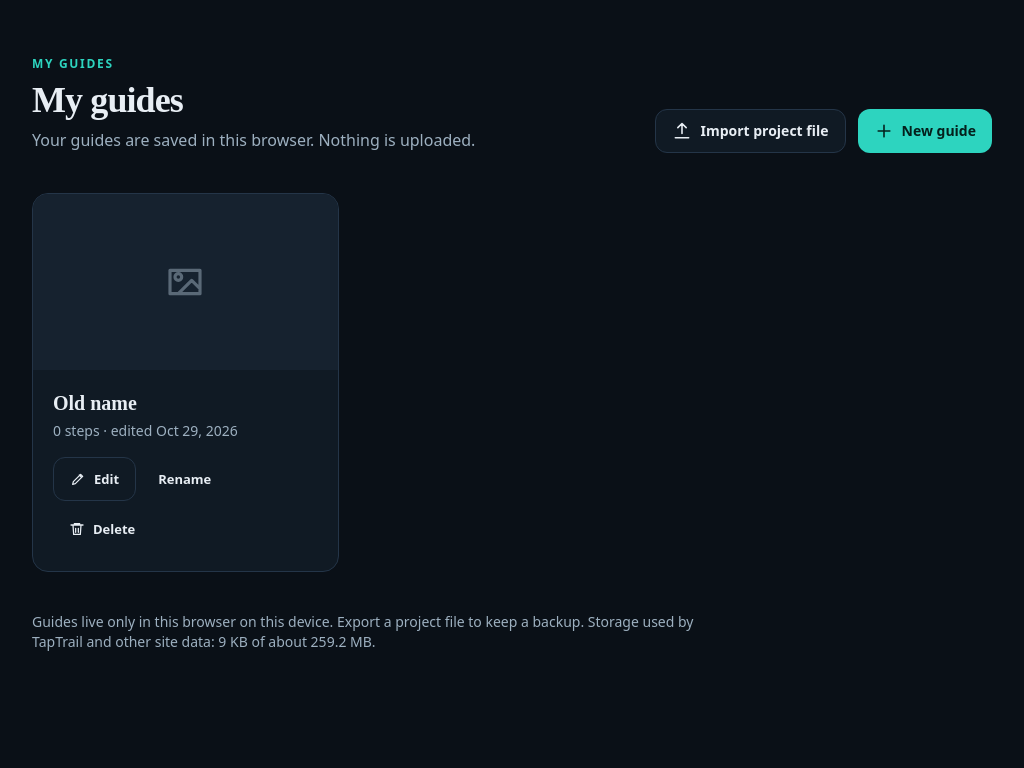
it: Studio: guide management › lists saved guides and renames one
The width and height of the screenshot is (1024, 768).
Expected: the link "Old name" is shown, 53,392 -> 137,414
Click the button "Rename": (185, 479) 142,457 -> 227,501
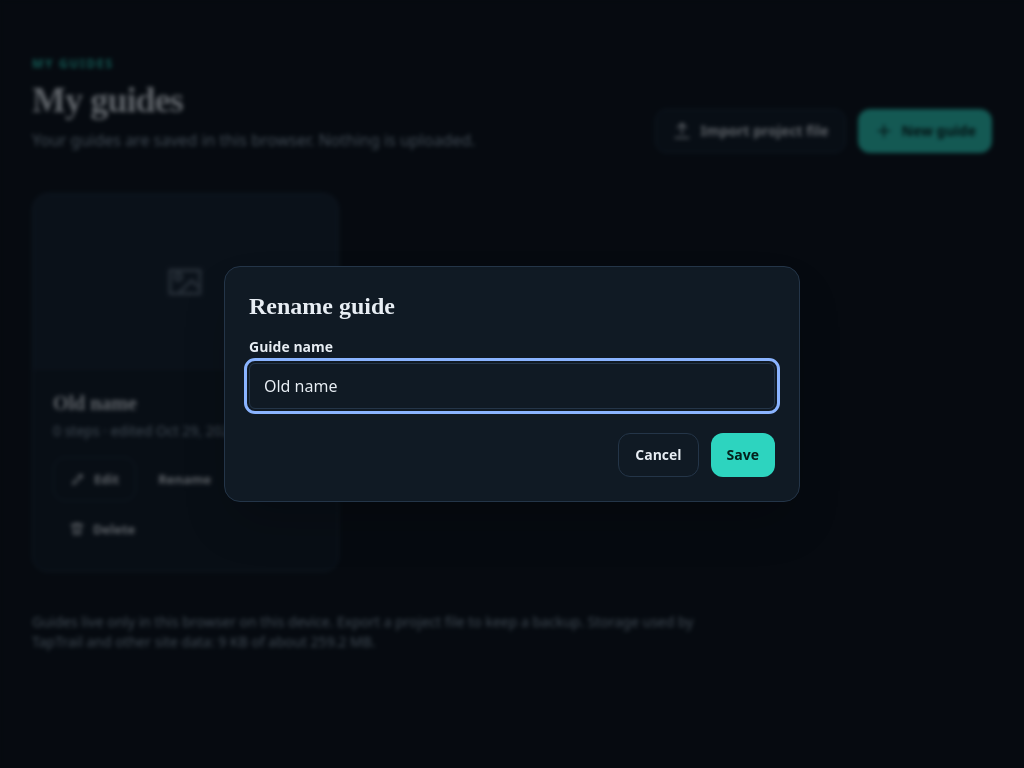
Replace the text in the field labelled "Guide name" with "New name": (512, 386) 249,363 -> 775,409
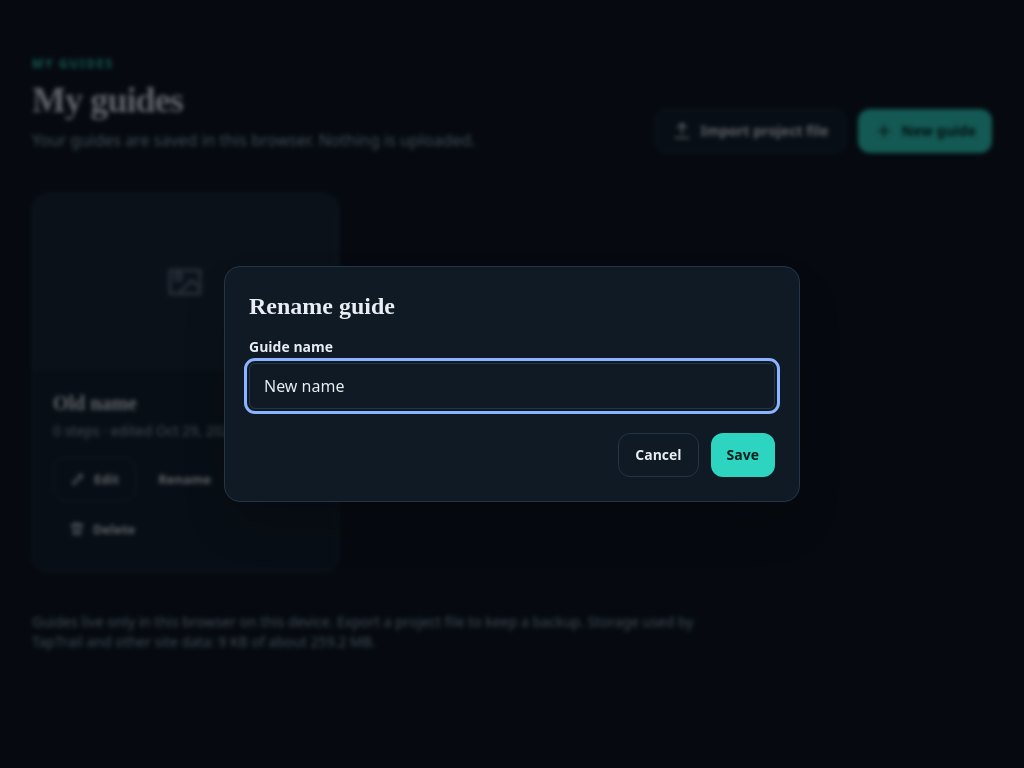
Click the button "Save": (743, 455) 711,433 -> 775,477
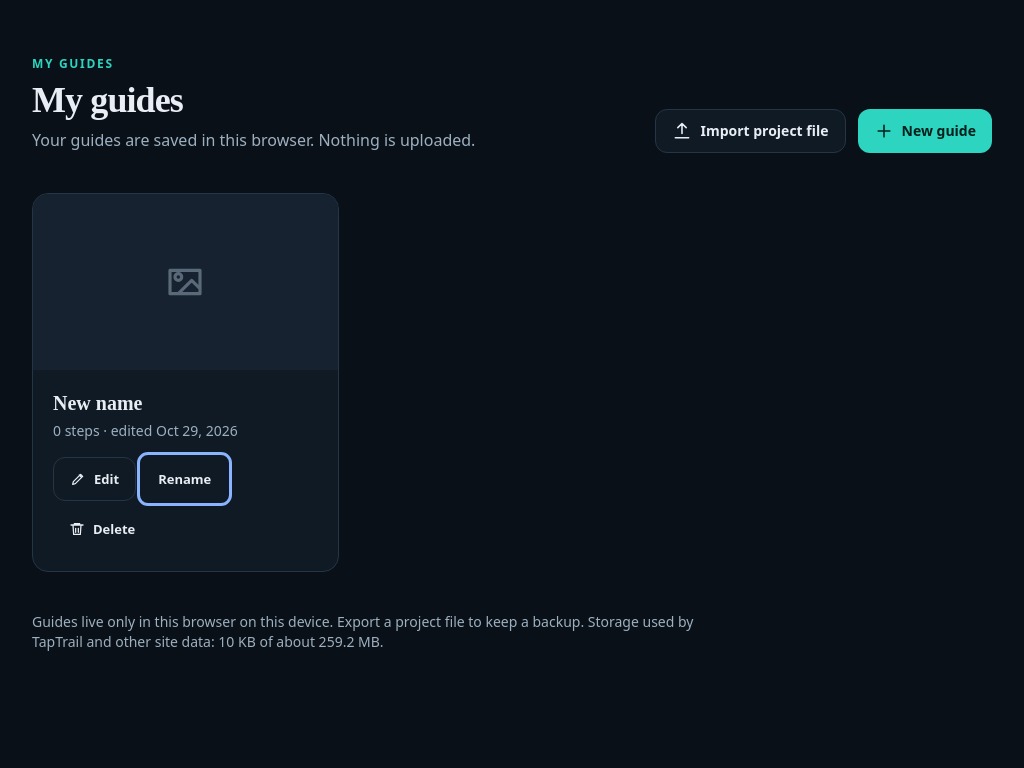
Result: the link named "Old name" reads "New name" at 53,392 -> 142,414
